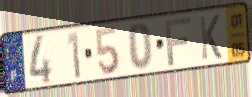0: (126, 21, 155, 73)
1: (66, 29, 83, 80)
4: (27, 34, 55, 86)
5: (93, 25, 121, 77)
F: (163, 16, 193, 68)
K: (198, 13, 224, 62)
